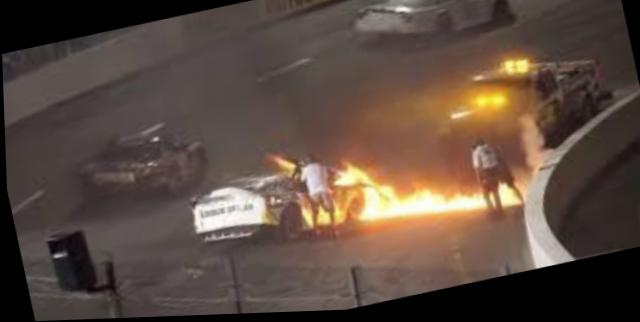fire: (276, 112, 527, 256)
